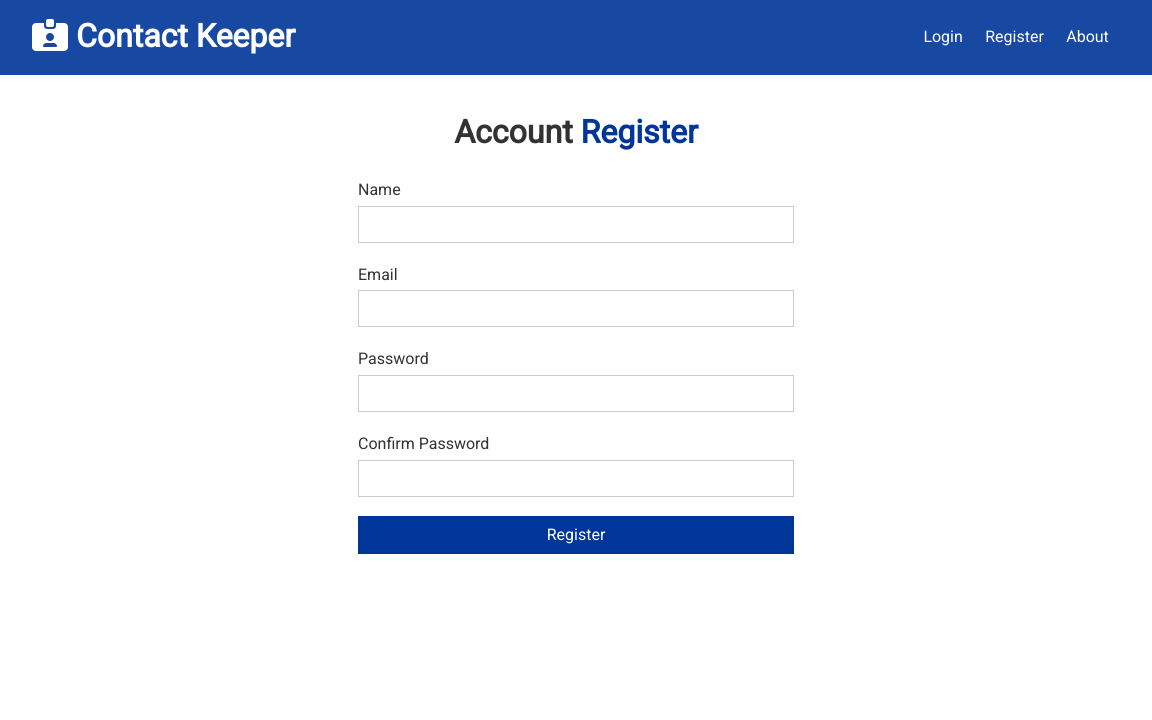
Test: Register User › should display an error user already exists
In the field with test id "register-name": (576, 224) [358,206,794,242], type "Harry Potter"
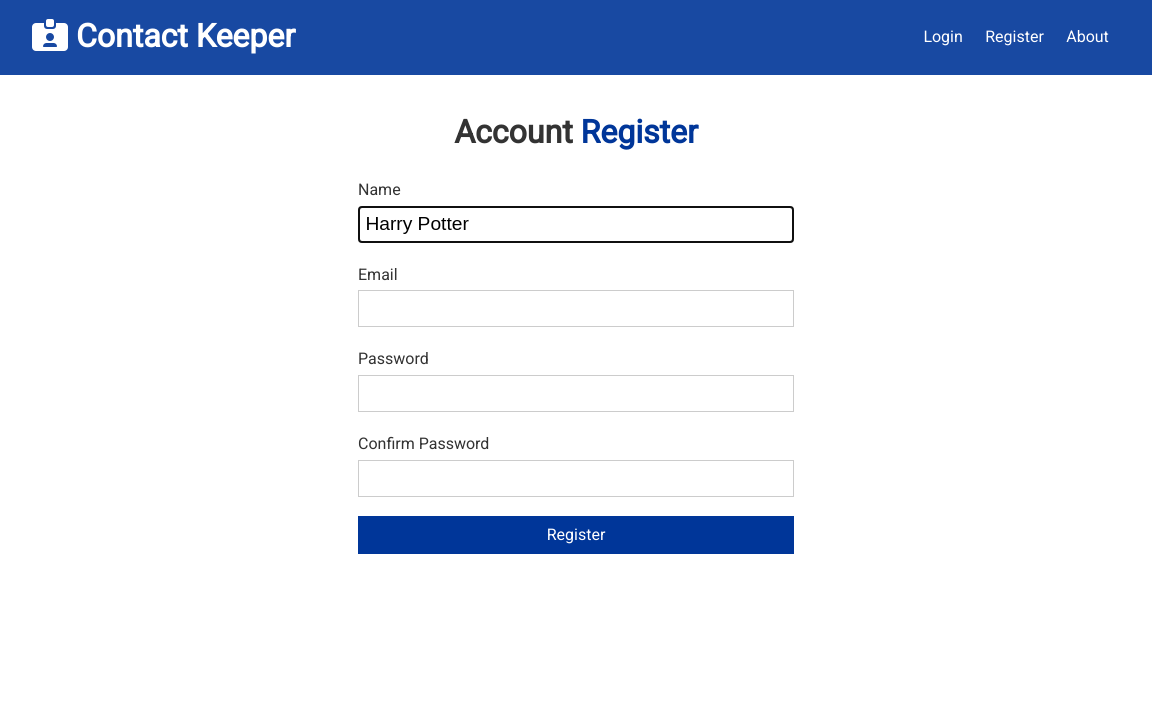
In the field with test id "register-email": (576, 309) [358,290,794,327], type "hpotter@nascentpixels.io"
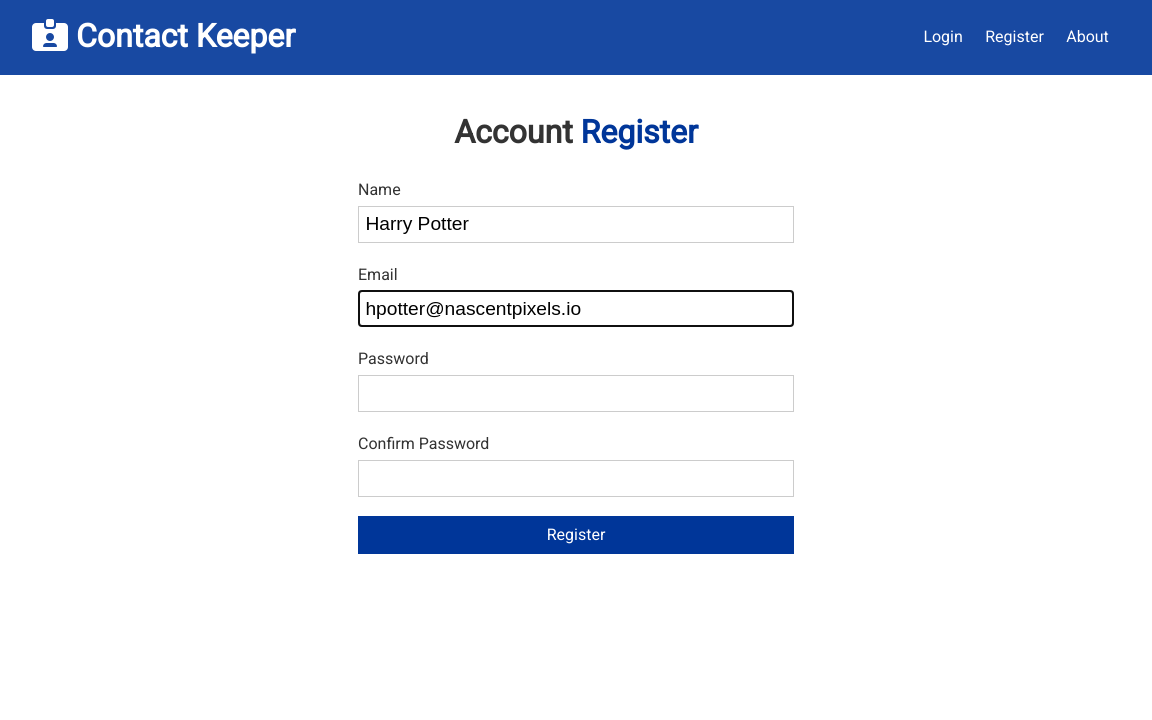
In the password field with test id "register-password": (576, 394) [358,375,794,412], type "abc123"
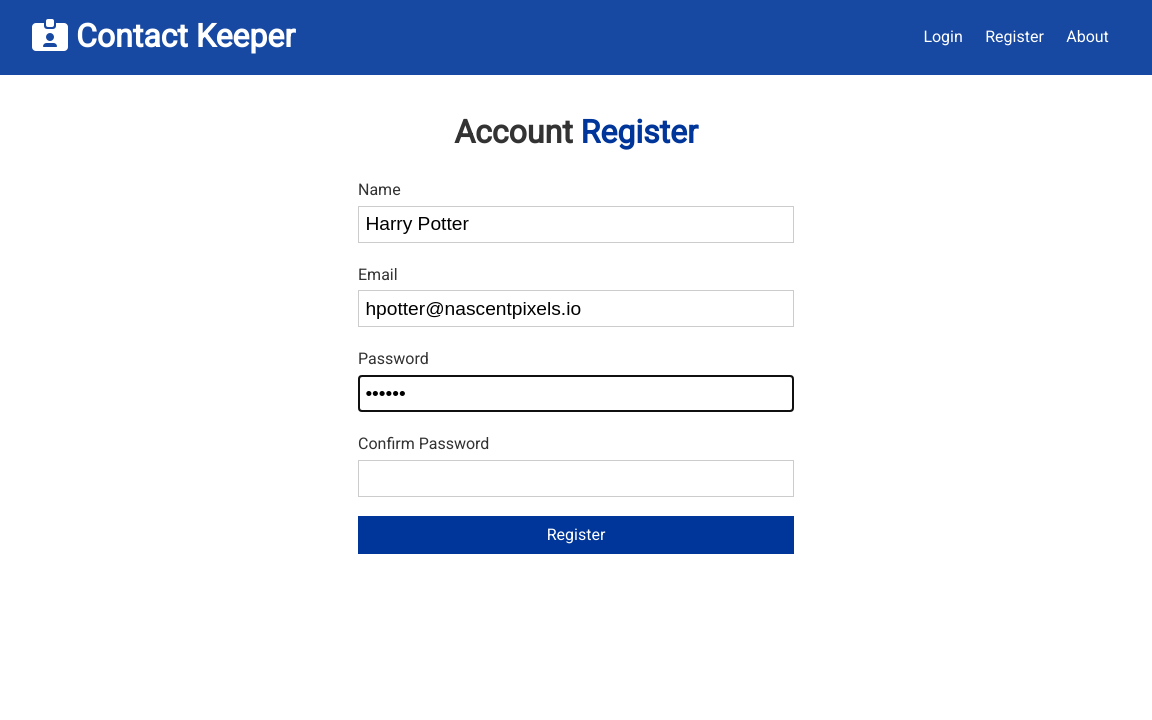
In the password field with test id "register-password2": (576, 478) [358,460,794,497], type "abc123"
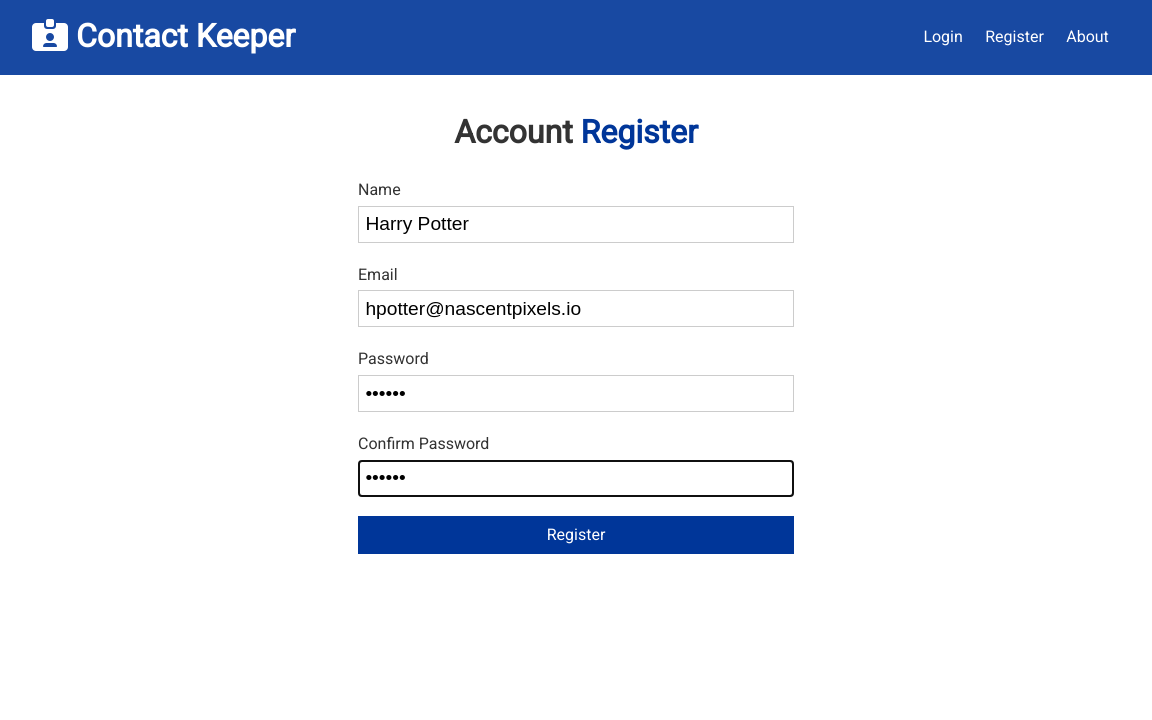
Click the button with test id "submit-register": (576, 535) [358,516,794,554]
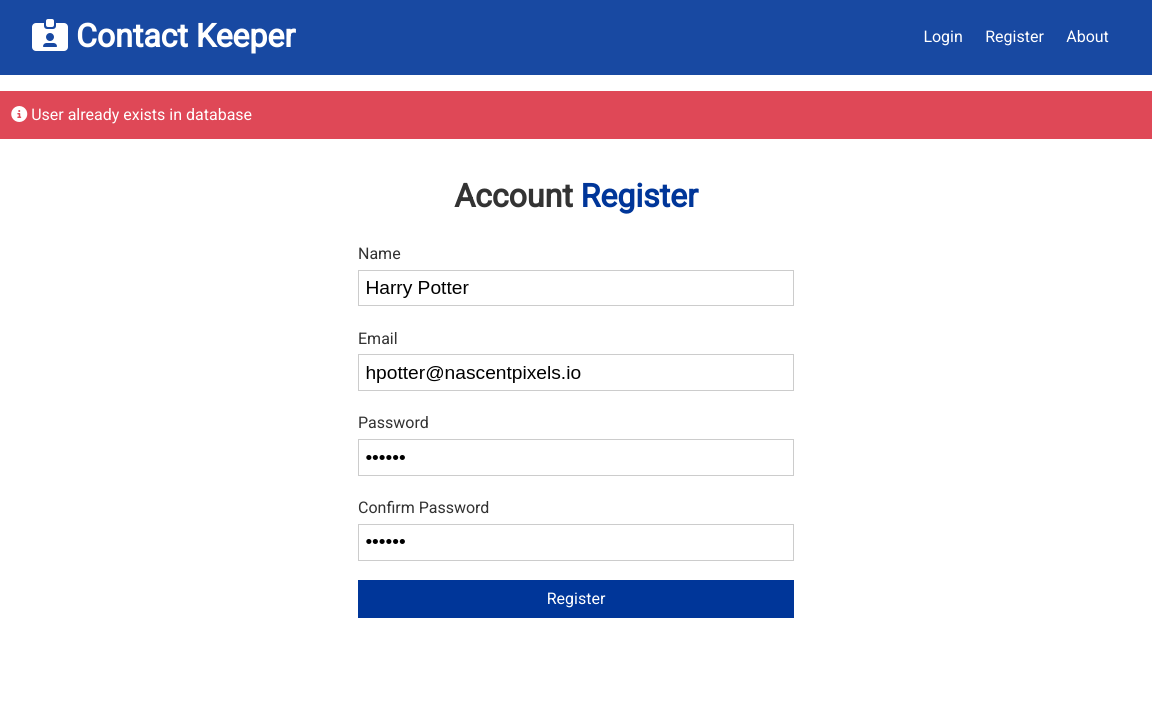
Check: the text "User already exists in database" is shown, box [0,91,1151,139]
